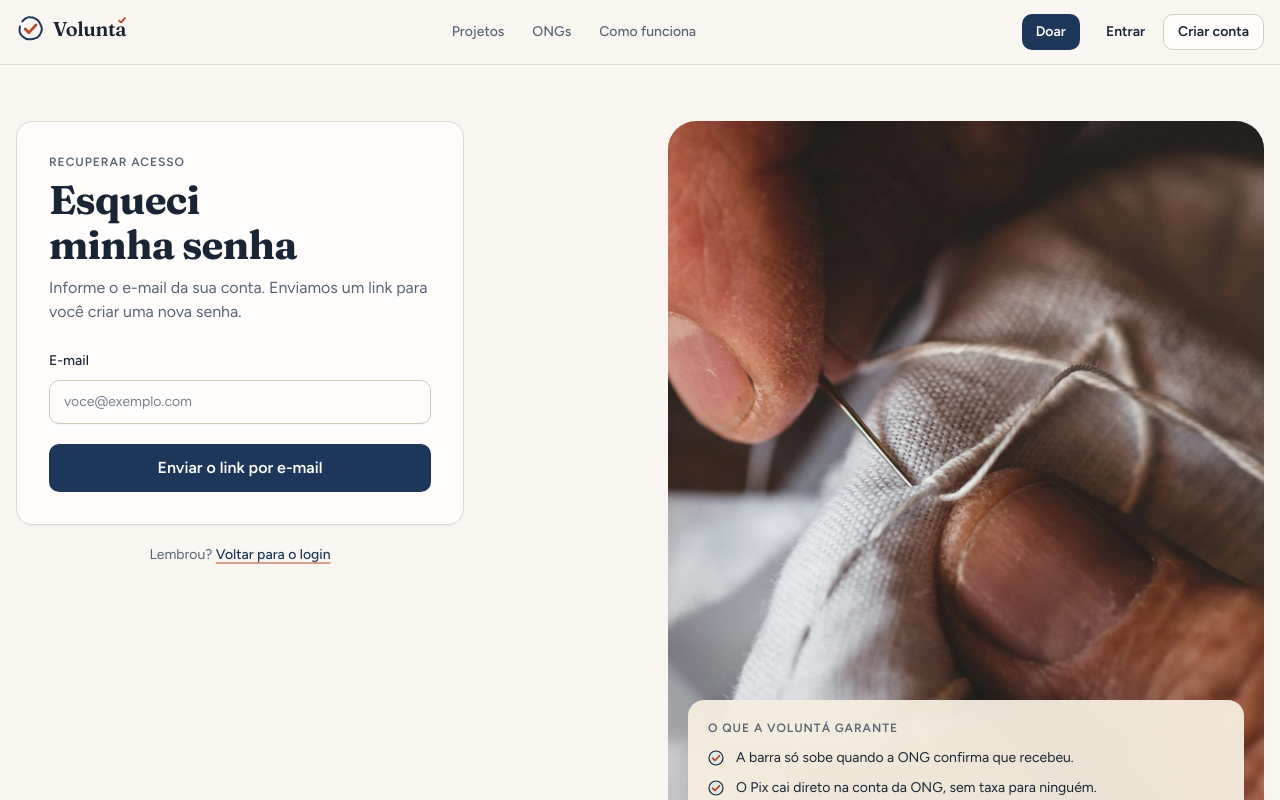
Scenario: EsqueciSenhaPage › confirma o envio sem dizer se o e-mail existe
The width and height of the screenshot is (1280, 800).
Type "Maria@Exemplo.com" into the field labelled "E-mail". click: point(240, 402)
box: left=49, top=380, right=431, bottom=424
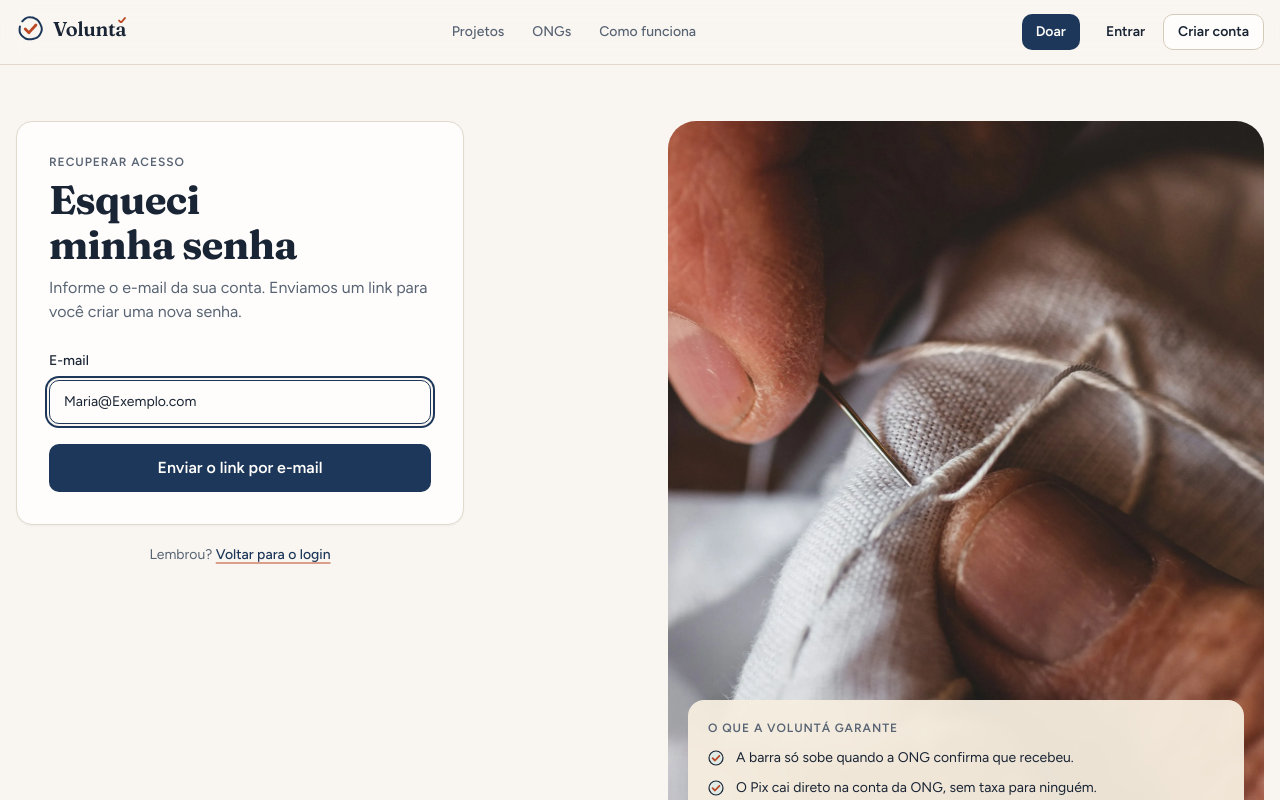
Click the button "Enviar o link por e-mail". click: point(240, 468)
box: left=49, top=444, right=431, bottom=492
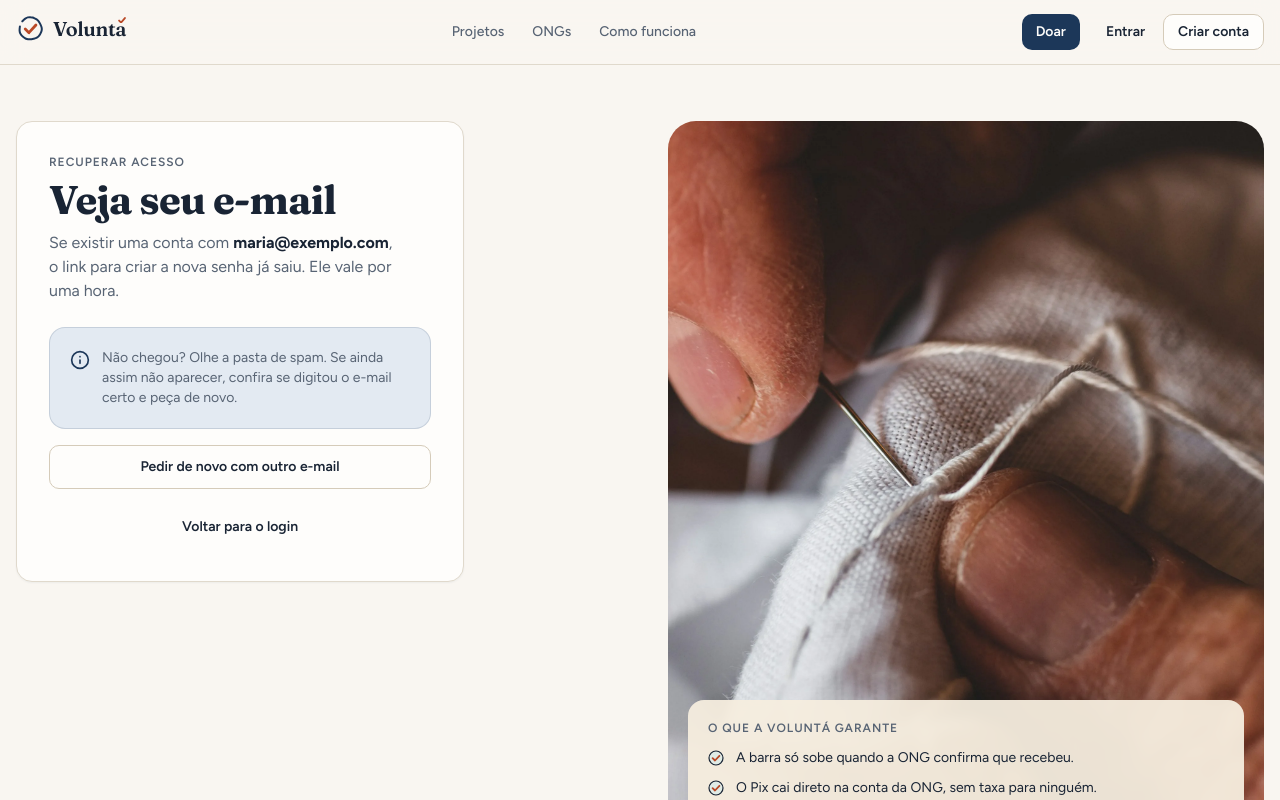
Check: the heading "Veja seu e-mail" is shown, box left=49, top=178, right=431, bottom=223
